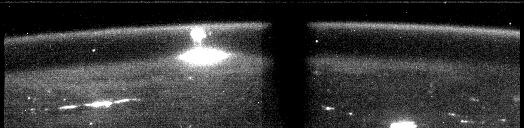positive: (189, 27, 213, 46)
